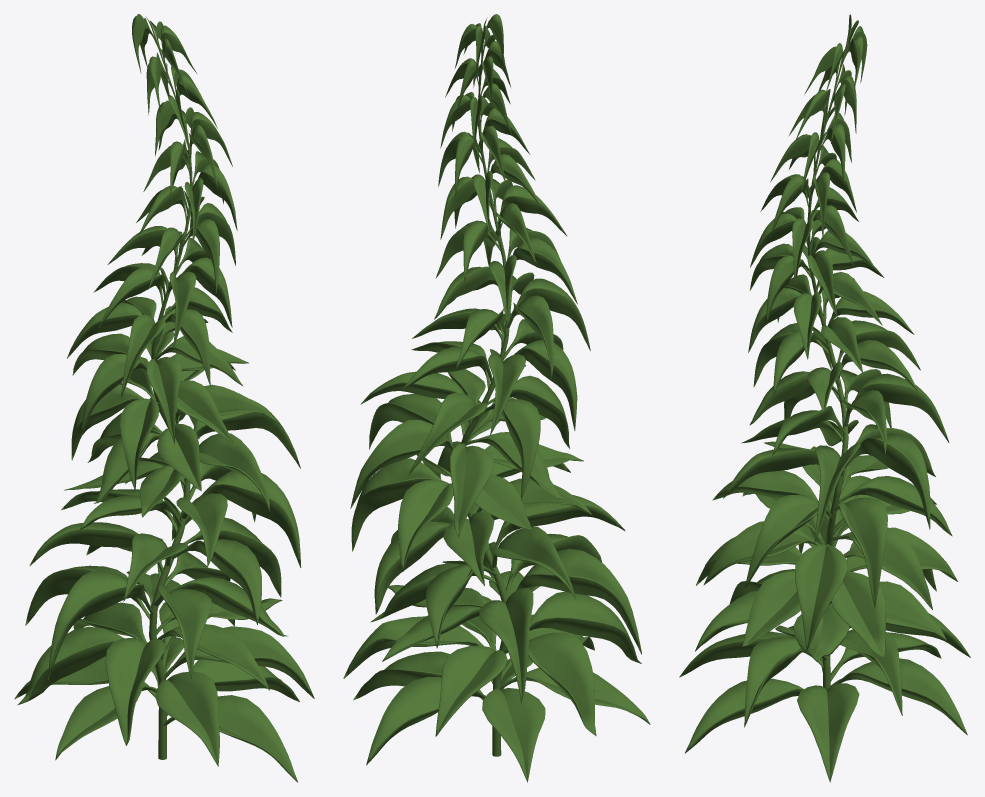
File: officePlant_edit_for_FBX.fbx
3 renders of one model, left to right at view 1: azimuth 30°, elevation 25°; view 2: azimuth 150°, elevation 25°; view 3: azimuth 270°, elevation 25°, orthographic. The views are drawn at different scales.
Visible parts, largest first — view 1: plants01; view 2: plants01; view 3: plants01.
Boxes of the visible parts, x1,y1,x2,y2 form: plants01: (14,14,314,782); plants01: (343,14,650,782); plants01: (679,14,970,782).
Bounding box in the file's own units: 79.24 × 208 × 76.87.
